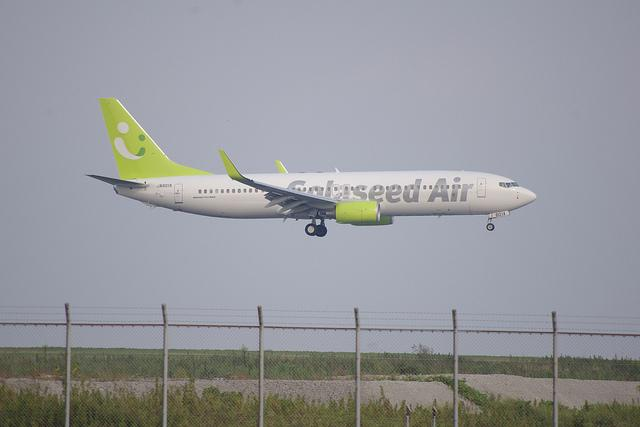airplane: (82, 96, 539, 238)
